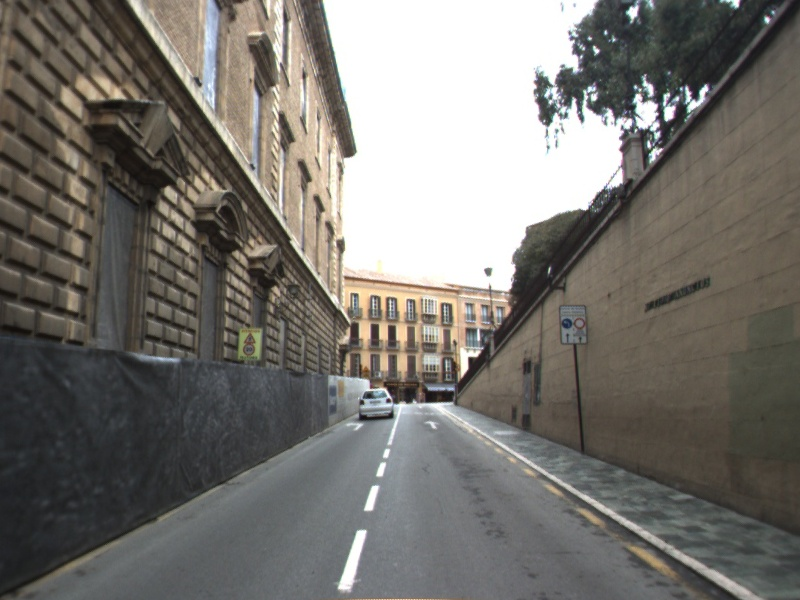LEFT: (343, 420, 366, 433)
STRAIGHT: (422, 418, 442, 431)
